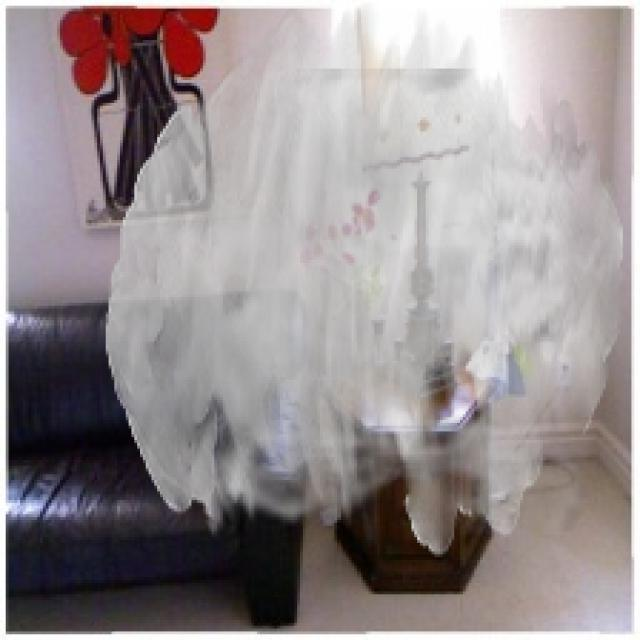Smoke: (105, 2, 626, 558)
